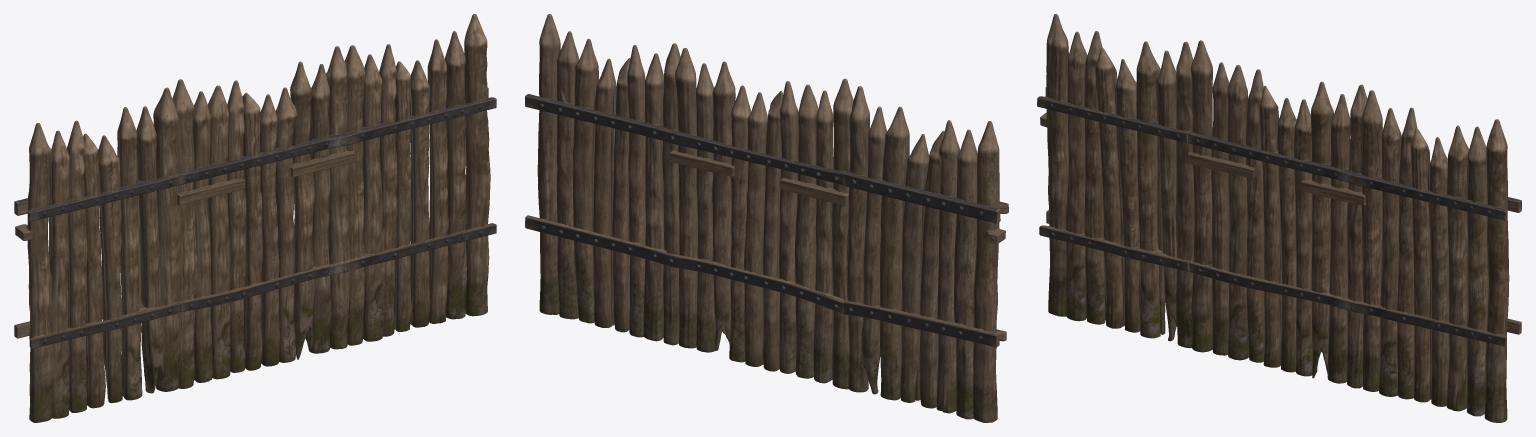
File: palisade_original.glb
The picture shows the model from 3 angles, left to right: view 1: azimuth 30°, elevation 25°; view 2: azimuth 150°, elevation 25°; view 3: azimuth 330°, elevation 25°; orthographic projection.
Size of the model in its own units: 1.9 by 1.18 by 0.1098.
1 material, 1 textured.
